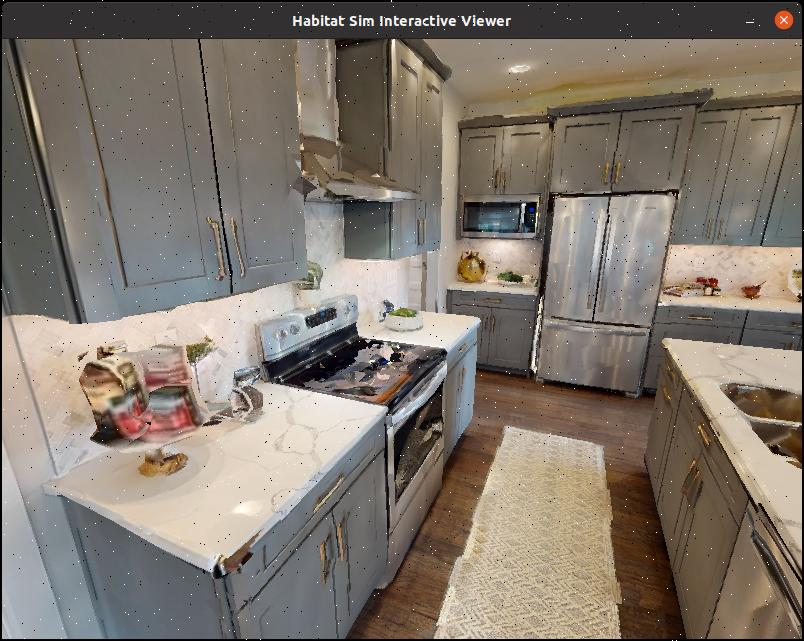table: (44, 299, 496, 636), (632, 320, 804, 641)
